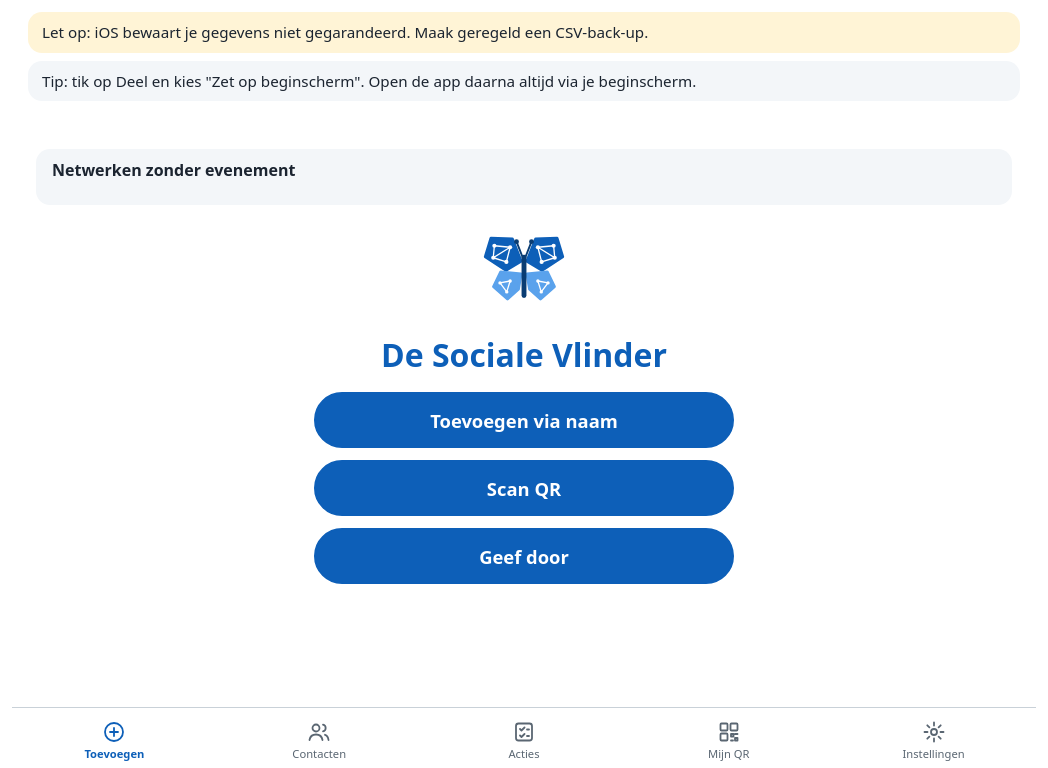
Test: Settings: CSV backup (F10 US1) › shows a message when the backup fails
The image size is (1048, 768).
Click the button "Instellingen": point(934, 740) [831, 712, 1036, 767]
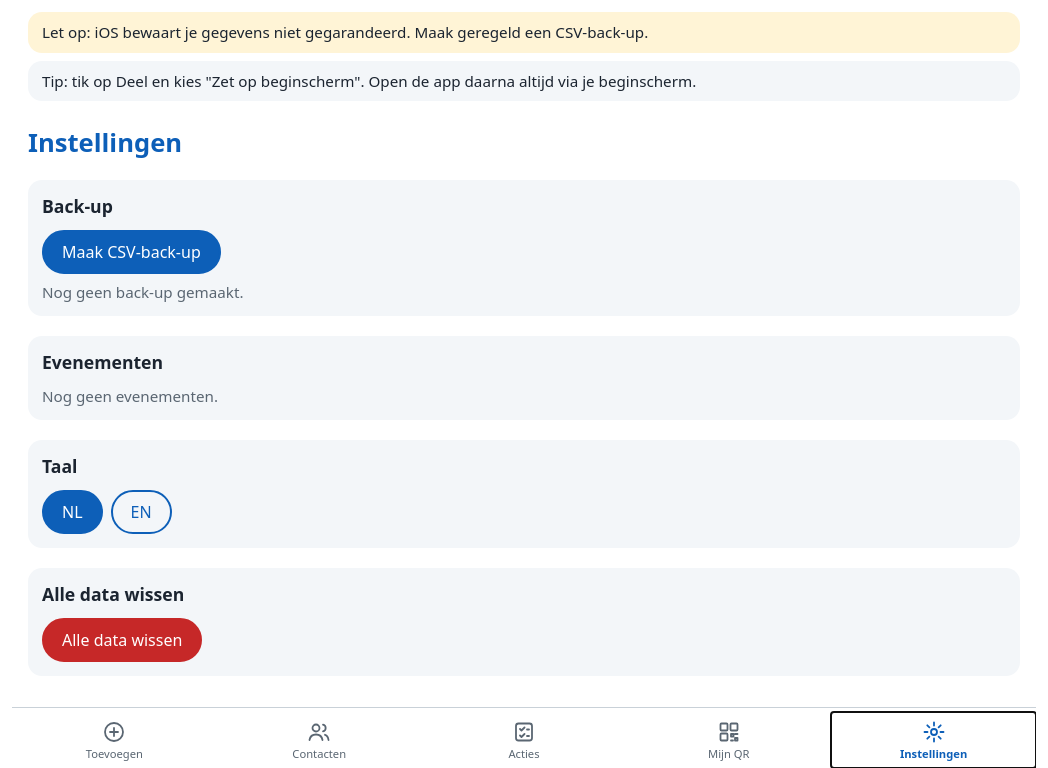
Expected: the heading "Instellingen" is shown, [28, 125, 182, 160]
Expected: the button "Maak CSV-back-up" is enabled
Click the button "Maak CSV-back-up": point(131, 252) [42, 230, 221, 274]
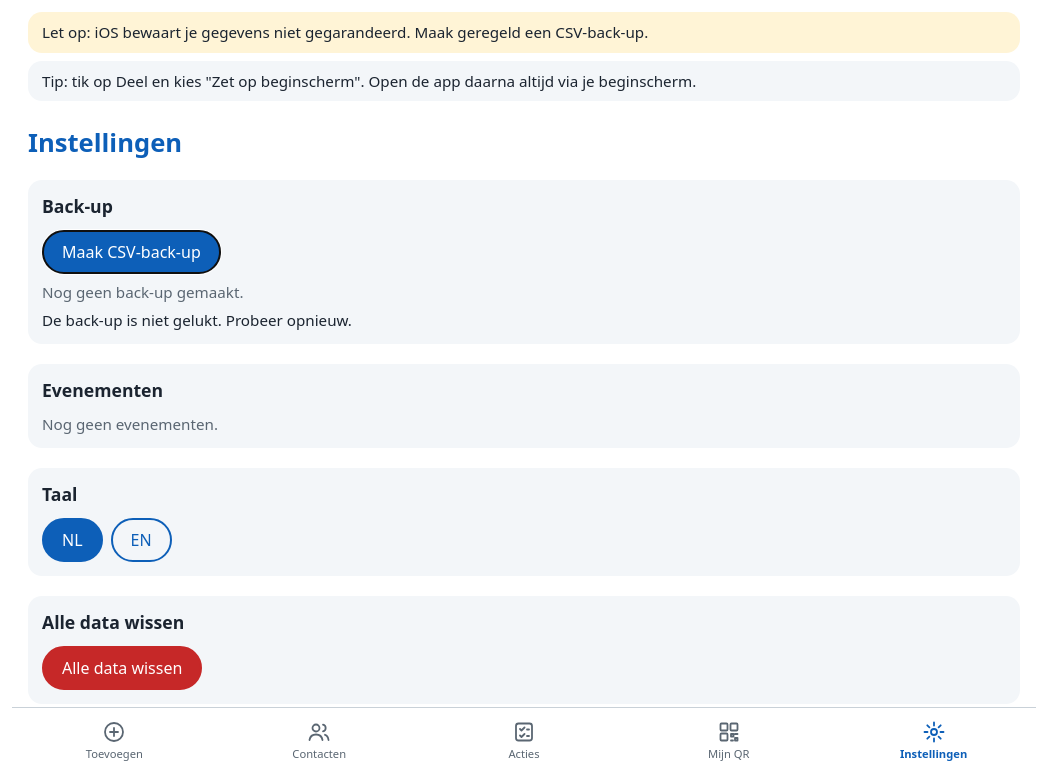
Expected: the text "De back-up is niet gelukt. Probeer opnieuw." is shown, [42, 310, 352, 330]
